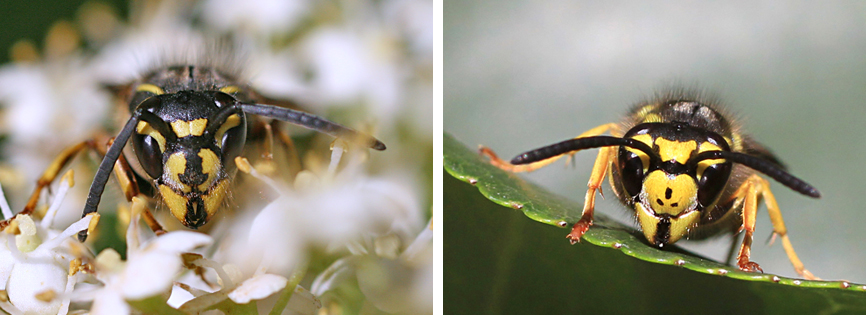chax: (455, 72, 848, 295), (20, 49, 407, 264)
